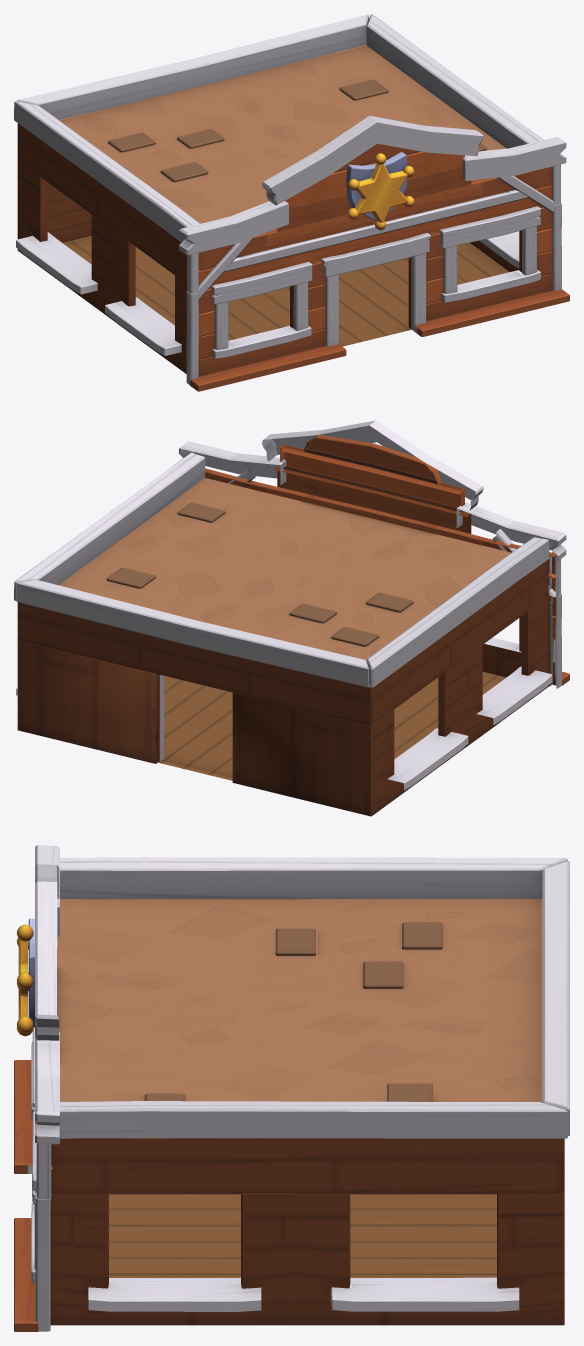
File: sheriff_001.fbx
3 views of the same model, one above another, from view 1: azimuth 30°, elevation 25°; view 2: azimuth 150°, elevation 25°; view 3: azimuth 270°, elevation 25° (orthographic). The views are drawn at different scales.
Visible parts, largest first — view 1: sheriff_top_001, sheriff_walls_001, sheriff_roof_001, sheriff_floors_001, sheriff_medal_001; view 2: sheriff_top_001, sheriff_roof_001, sheriff_walls_001, sheriff_floors_001; view 3: sheriff_roof_001, sheriff_top_001, sheriff_walls_001, sheriff_floors_001, sheriff_medal_001.
Part boxes in pixels (x1,y1,x2,y2): sheriff_top_001: (14, 14, 566, 304); sheriff_walls_001: (16, 160, 569, 391); sheriff_roof_001: (59, 44, 506, 223); sheriff_floors_001: (63, 236, 509, 346); sheriff_medal_001: (346, 152, 414, 230); sheriff_top_001: (14, 420, 566, 725); sheriff_roof_001: (58, 478, 511, 685); sheriff_walls_001: (16, 593, 569, 816); sheriff_floors_001: (158, 671, 505, 780); sheriff_roof_001: (57, 898, 542, 1138); sheriff_top_001: (32, 845, 569, 1204); sheriff_walls_001: (14, 1042, 564, 1331); sheriff_floors_001: (109, 1194, 496, 1277); sheriff_medal_001: (16, 918, 34, 1036).
Size of the model in its own units: 14.63 by 7.91 by 12.51.
